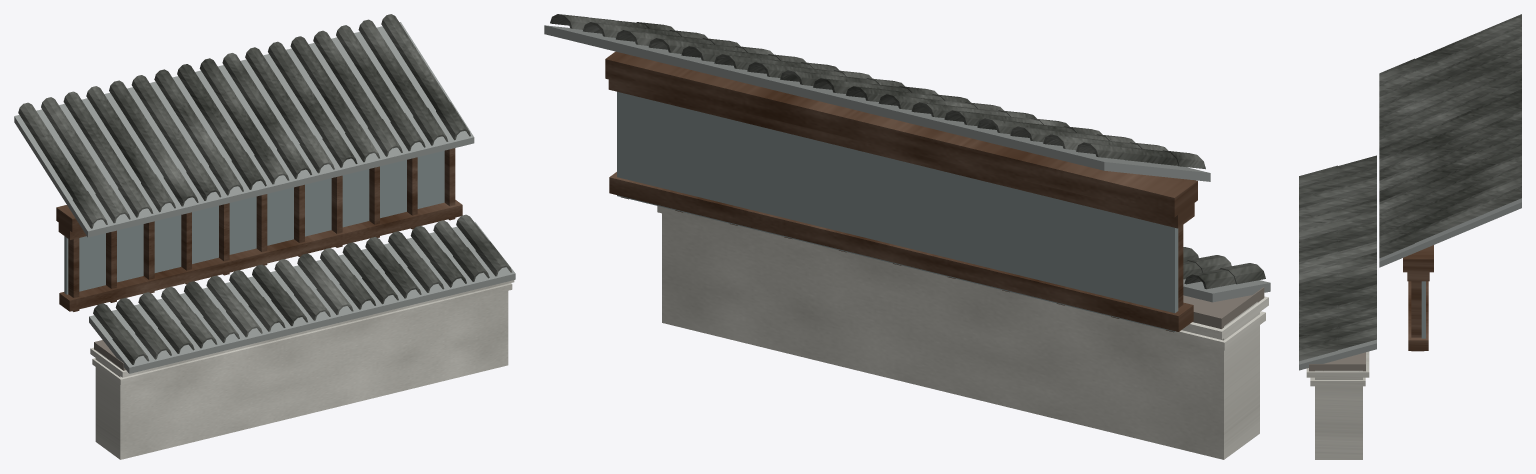
Rendered from jinze-chen-warehouse-clerestory-and-tile-eaves-far.glb.
3 renders of one model, left to right at view 1: azimuth 30°, elevation 25°; view 2: azimuth 150°, elevation 25°; view 3: azimuth 270°, elevation 25°, orthographic. The views are drawn at different scales.
Parts seen in each view (by area): view 1: 金泽陈家仓库层檐之间的窄窗带与小青瓦; view 2: 金泽陈家仓库层檐之间的窄窗带与小青瓦; view 3: 金泽陈家仓库层檐之间的窄窗带与小青瓦.
Part boxes in pixels (box(x1,y1,x2,y2)): 金泽陈家仓库层檐之间的窄窗带与小青瓦: box(14, 14, 515, 459); 金泽陈家仓库层檐之间的窄窗带与小青瓦: box(544, 14, 1270, 459); 金泽陈家仓库层檐之间的窄窗带与小青瓦: box(1299, 14, 1521, 459).
Size of the model in its own units: 3.03 by 2.03 by 1.54.
6 materials, 3 textured.
